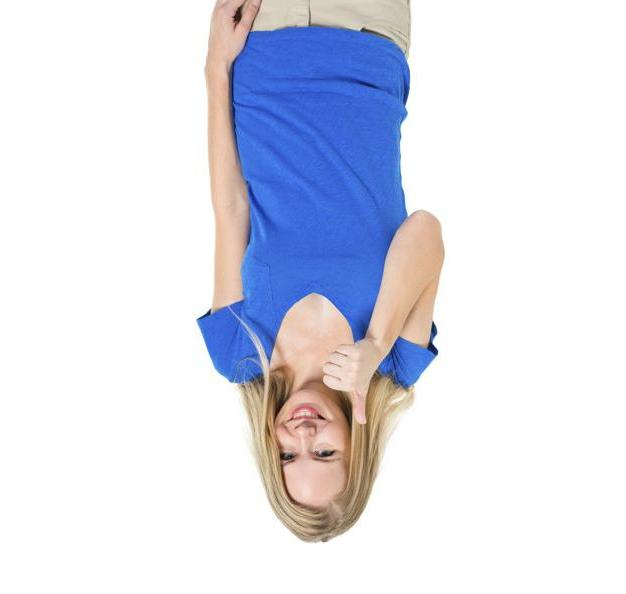thumbsdown: (322, 343, 369, 425)
